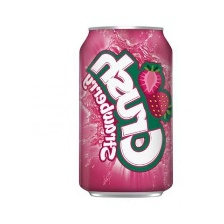can: (67, 12, 180, 205)
